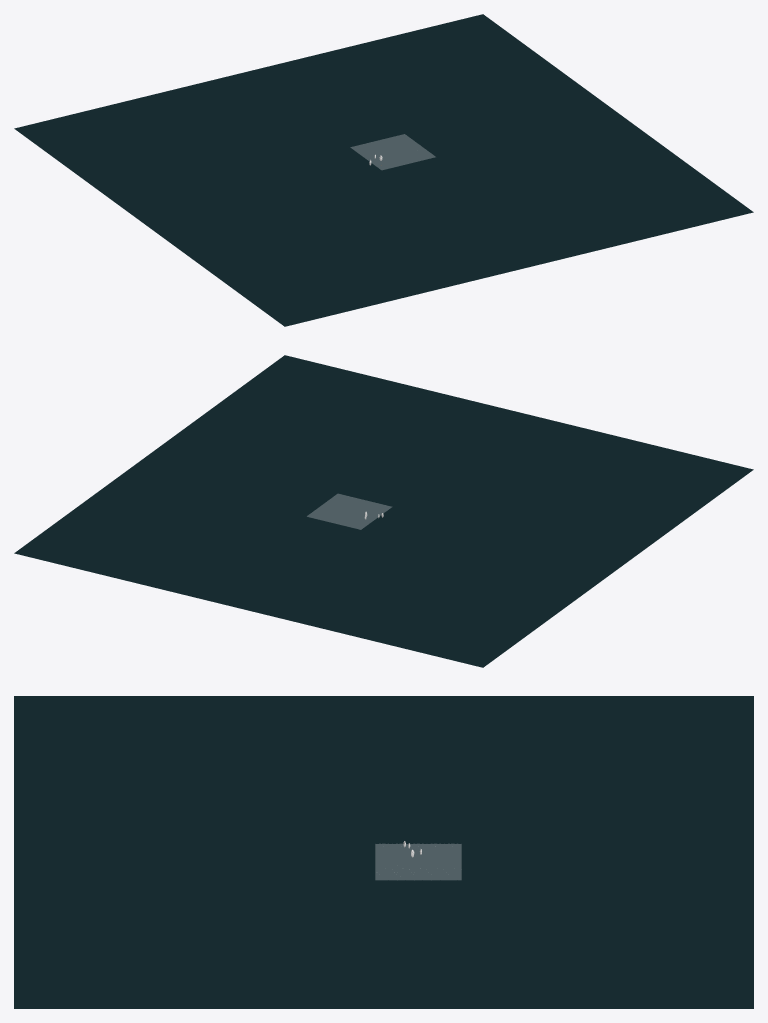
File: ocean_scene.glb
The picture shows the model from 3 angles, top to bottom: view 1: azimuth 30°, elevation 25°; view 2: azimuth 150°, elevation 25°; view 3: azimuth 270°, elevation 25°; orthographic projection. The views are drawn at different scales.
Visible parts, largest first — view 1: Deep, Ocean; view 2: Deep, Ocean; view 3: Deep, Ocean.
Boxes of the visible parts, x1,y1,x2,y2 form: Deep: (14, 14, 753, 326); Ocean: (351, 134, 434, 169); Deep: (14, 355, 753, 667); Ocean: (307, 494, 391, 529); Deep: (14, 696, 753, 1008); Ocean: (375, 844, 461, 879).
Size of what is drawn, in the model's own units: 6000 by 73.19 by 6000.
